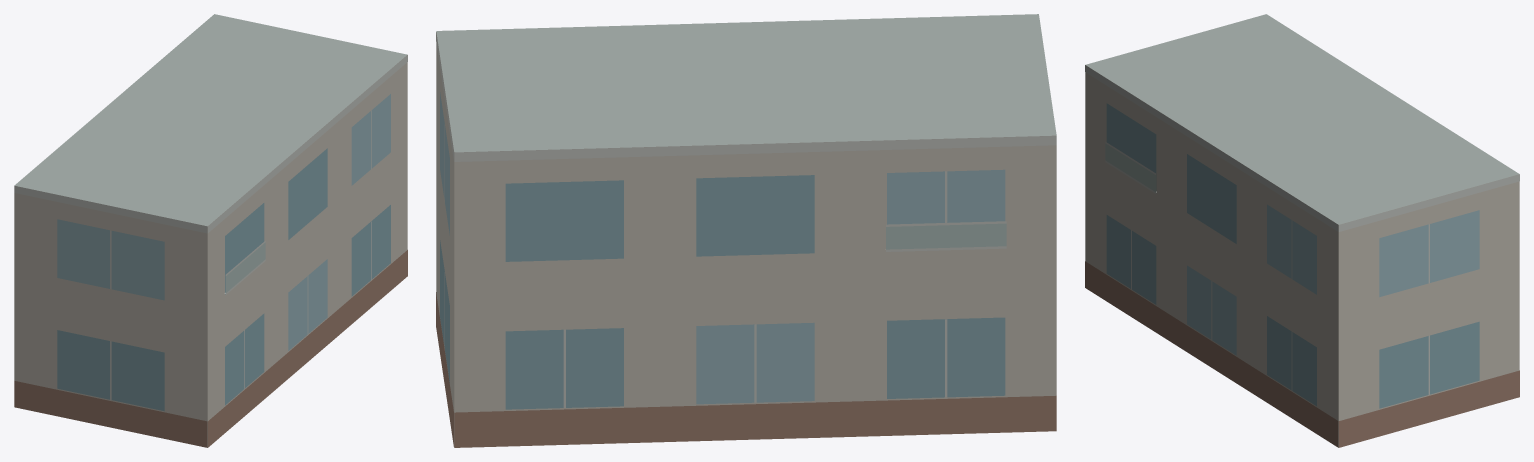
The model's file is survey-upis-32619360.glb.
3 views of the same model, side by side, from view 1: azimuth 30°, elevation 25°; view 2: azimuth 150°, elevation 25°; view 3: azimuth 270°, elevation 25° (orthographic). The views are drawn at different scales.
Visible parts, largest first — view 1: survey-upis-32619360.tmp; view 2: survey-upis-32619360.tmp; view 3: survey-upis-32619360.tmp.
Part boxes in pixels (<box>): survey-upis-32619360.tmp: <box>14,14,407,447</box>; survey-upis-32619360.tmp: <box>436,14,1056,447</box>; survey-upis-32619360.tmp: <box>1085,14,1519,447</box>.
Bounding box in the file's own units: 15.22 × 7.5 × 13.26.
